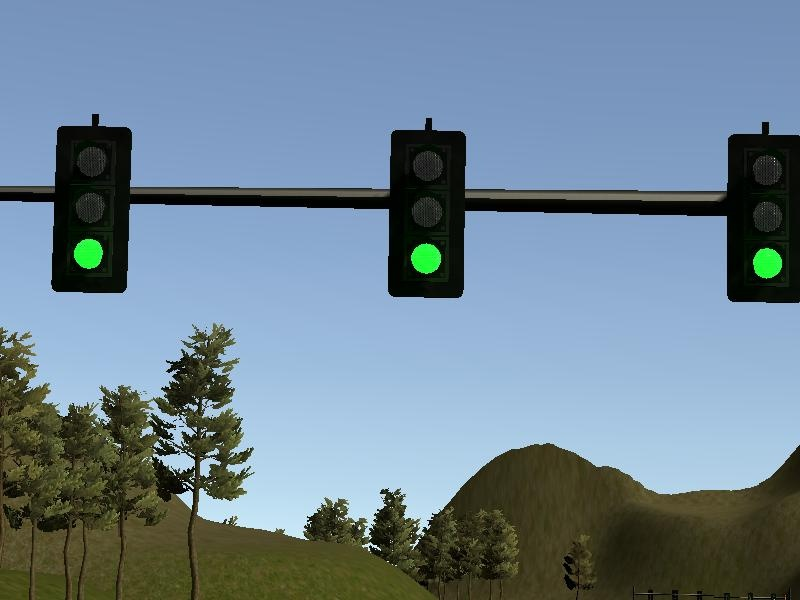green: (388, 129, 466, 300), (55, 124, 130, 296), (727, 133, 800, 302)
